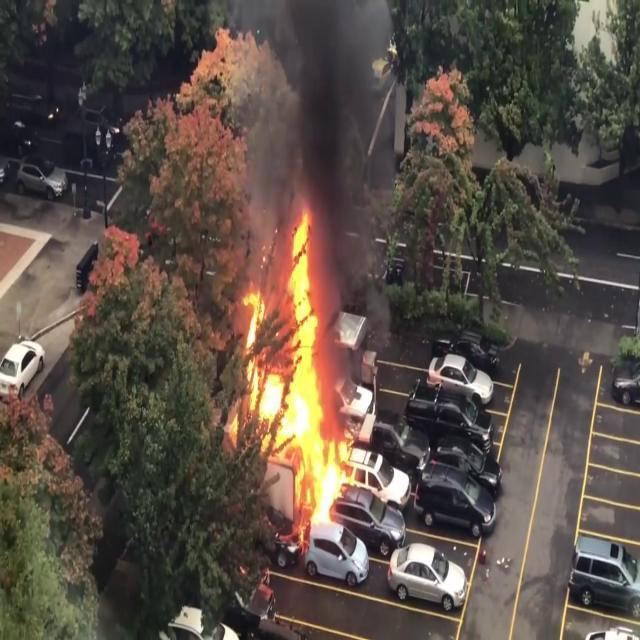Fire: (232, 202, 351, 540)
Smoke: (244, 0, 392, 268)
